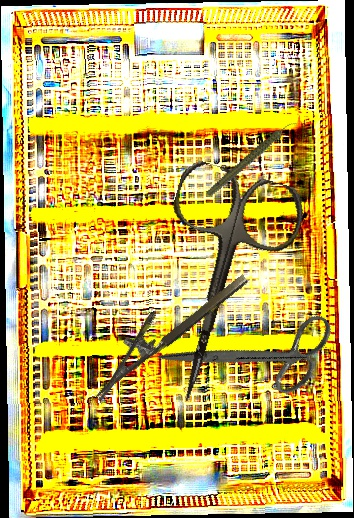Handpiece: (194, 119, 310, 199)
Iris Scissors: (122, 156, 310, 419), (157, 264, 350, 445)
Needle Holder: (76, 253, 250, 402)
